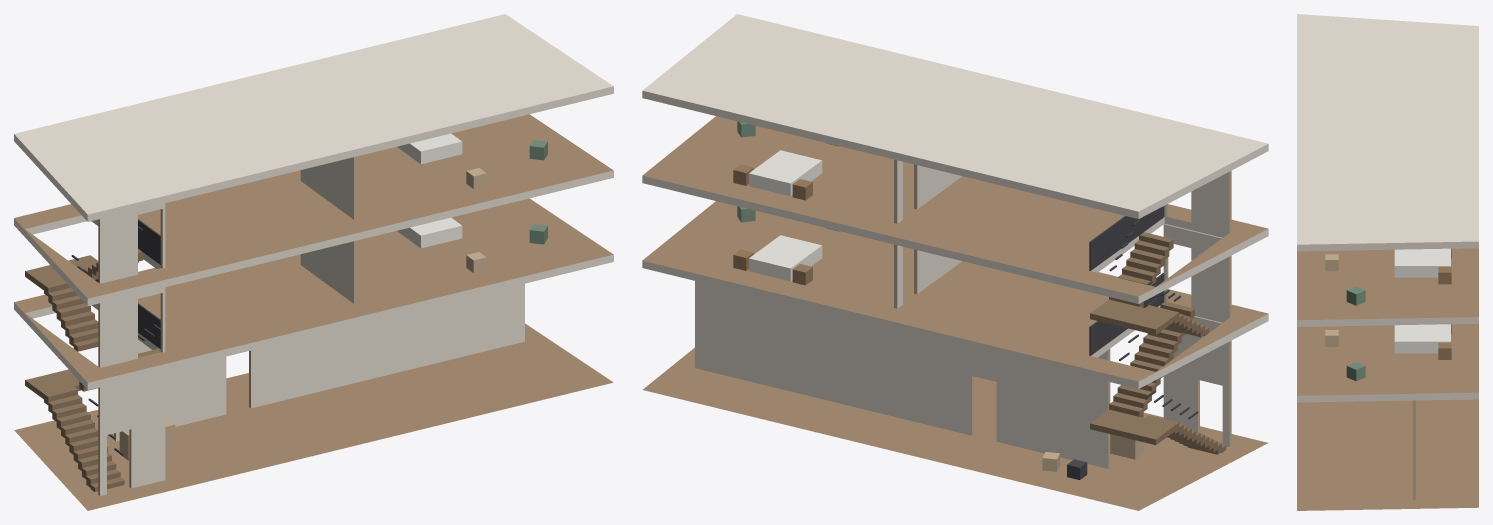
The model's file is interior.glb.
3 renders of one model, left to right at view 1: azimuth 30°, elevation 25°; view 2: azimuth 150°, elevation 25°; view 3: azimuth 270°, elevation 25°, orthographic. The views are drawn at different scales.
Visible parts, largest first — view 1: slabs, partitions, stair, coarse-s1, coarse-s2; view 2: slabs, partitions, stair, coarse-s2, coarse-s1, coarse-s0; view 3: slabs, coarse-s2, coarse-s1, partitions.
Part boxes in pixels (<box>): slabs: <box>14,14,613,510</box>; partitions: <box>98,156,524,495</box>; stair: <box>25,219,160,491</box>; coarse-s1: <box>397,217,547,273</box>; coarse-s2: <box>397,133,547,188</box>; slabs: <box>642,14,1268,510</box>; partitions: <box>695,159,1231,468</box>; stair: <box>1089,206,1226,454</box>; coarse-s2: <box>733,121,839,200</box>; coarse-s1: <box>733,206,839,285</box>; coarse-s0: <box>1042,434,1144,479</box>; slabs: <box>1297,14,1478,510</box>; coarse-s2: <box>1325,248,1451,305</box>; coarse-s1: <box>1325,324,1451,381</box>; partitions: <box>1412,400,1415,500</box>.
Size of the model in its own units: 19.34 by 10.43 by 6.45.
